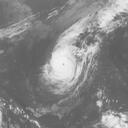cyclone: (43, 28, 88, 90)
